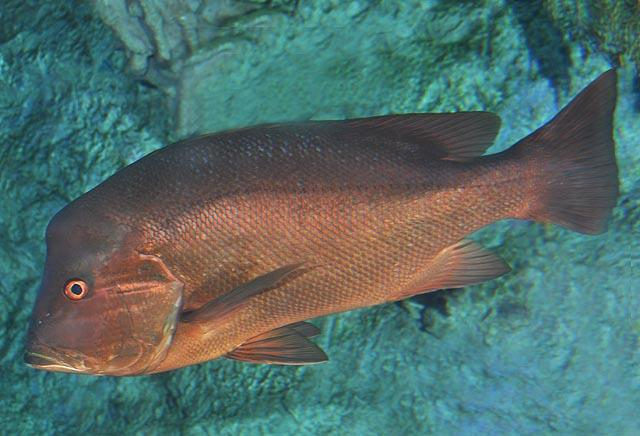Mulut: (17, 337, 77, 377)
Sirip Anal: (400, 228, 518, 302)
Sirip Dada: (180, 248, 322, 326)
Sirip Ekor: (524, 63, 626, 249)
Sirip Perut: (228, 325, 334, 369)
Sirip Punggung: (359, 93, 507, 165)
